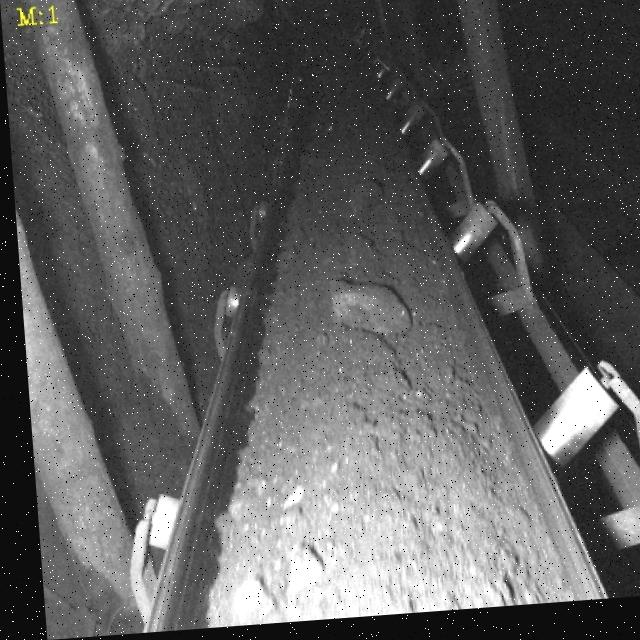large_sized_coal: (319, 281, 405, 344)
